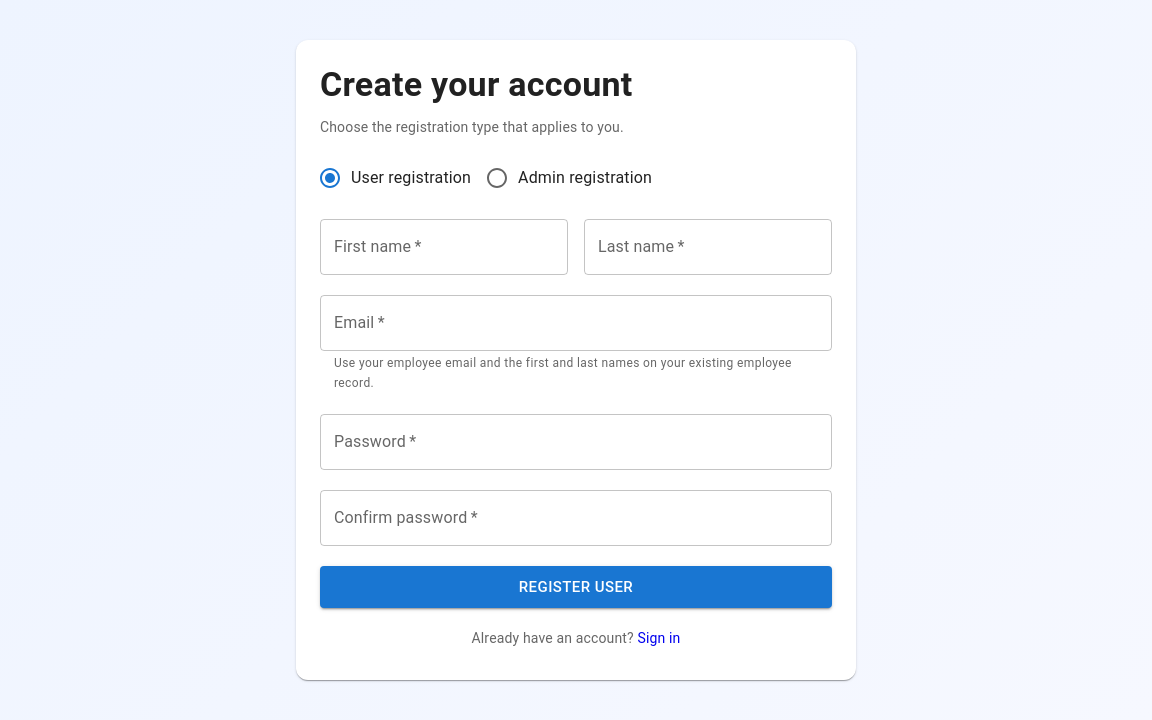
it: RegistrationPage › does not submit User registration when passwords do not match
Type "John" into the field labelled "First name".
click(444, 247); type("John")  # box x1=320 y1=219 x2=568 y2=275
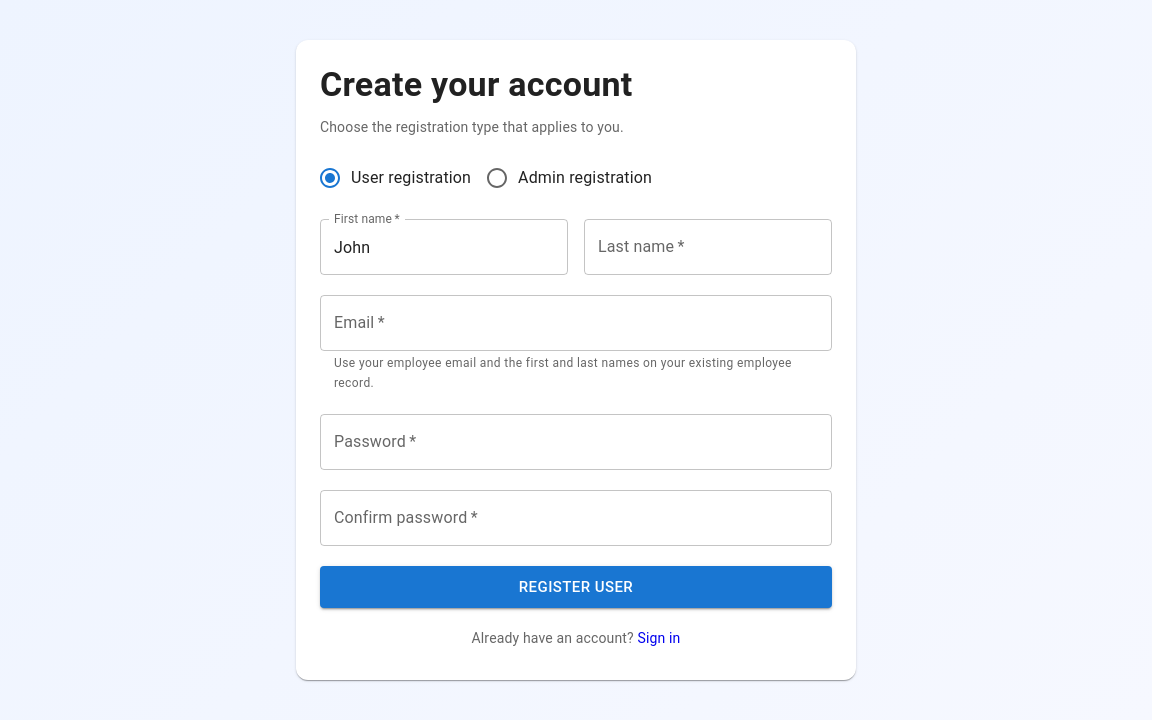
Type "Smith" into the field labelled "Last name".
click(708, 247); type("Smith")  # box x1=584 y1=219 x2=832 y2=275
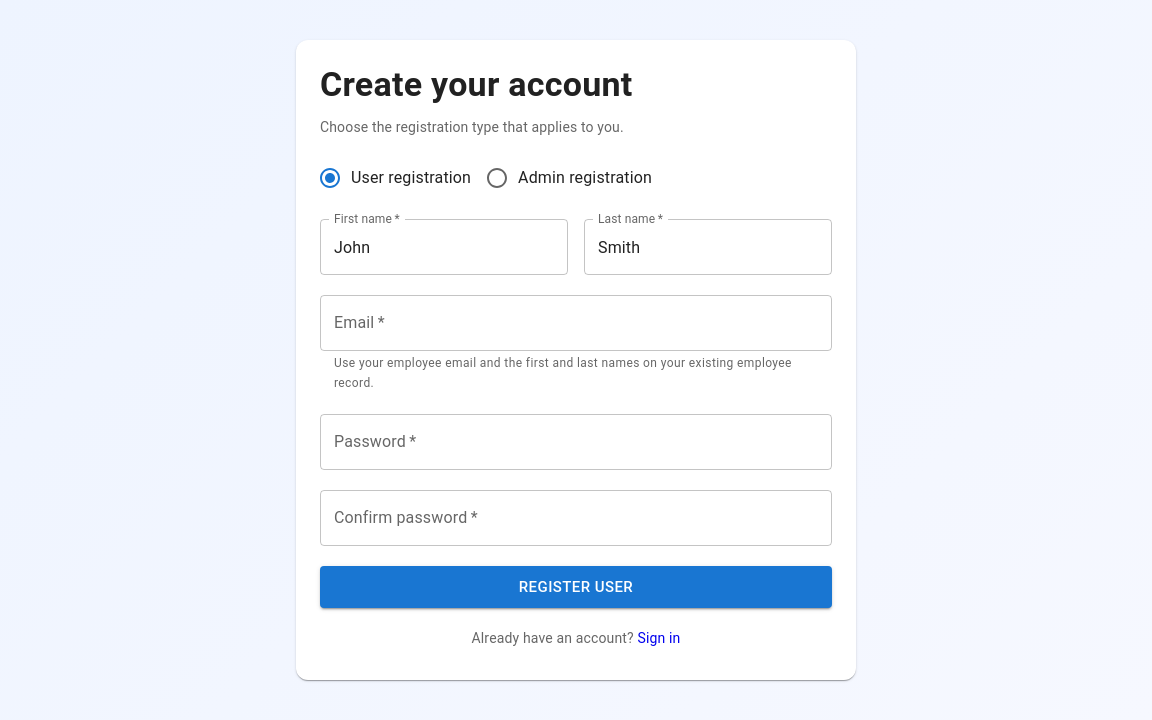
Type "john.smith@gmail.com" into the field labelled "Email".
click(576, 323); type("john.smith@gmail.com")  # box x1=320 y1=295 x2=832 y2=351
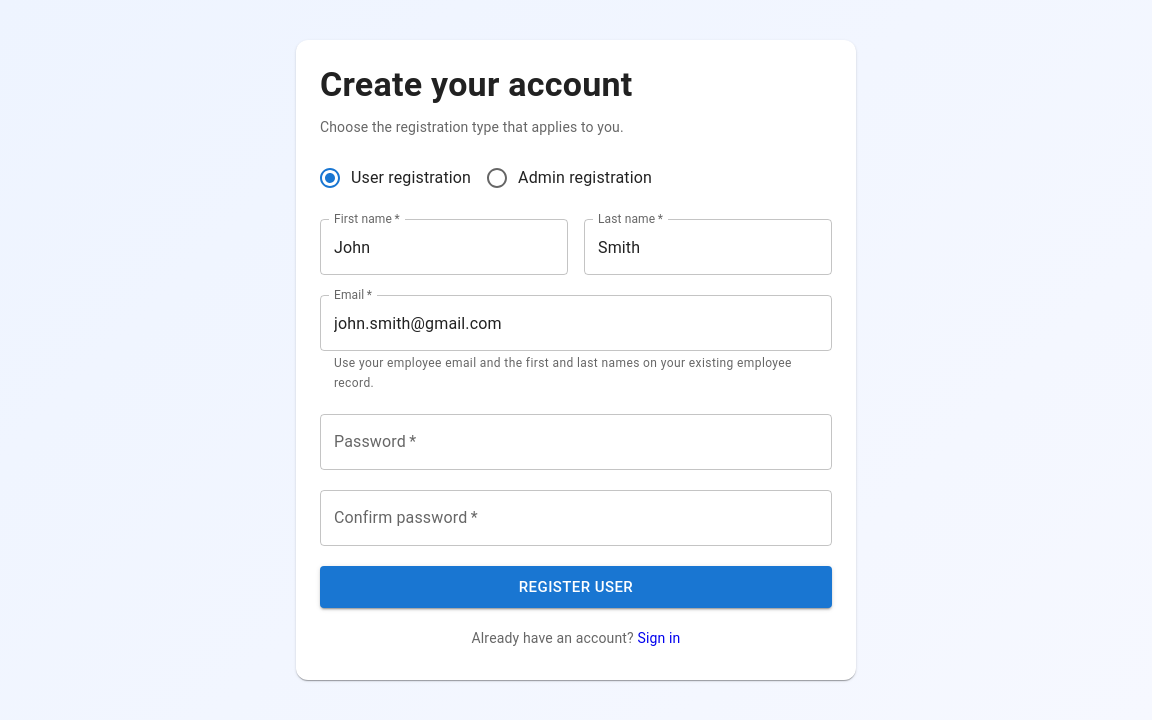
Type "EmployeePass456" into the password field labelled "Password *".
click(576, 442); type("EmployeePass456")  # box x1=320 y1=414 x2=832 y2=470
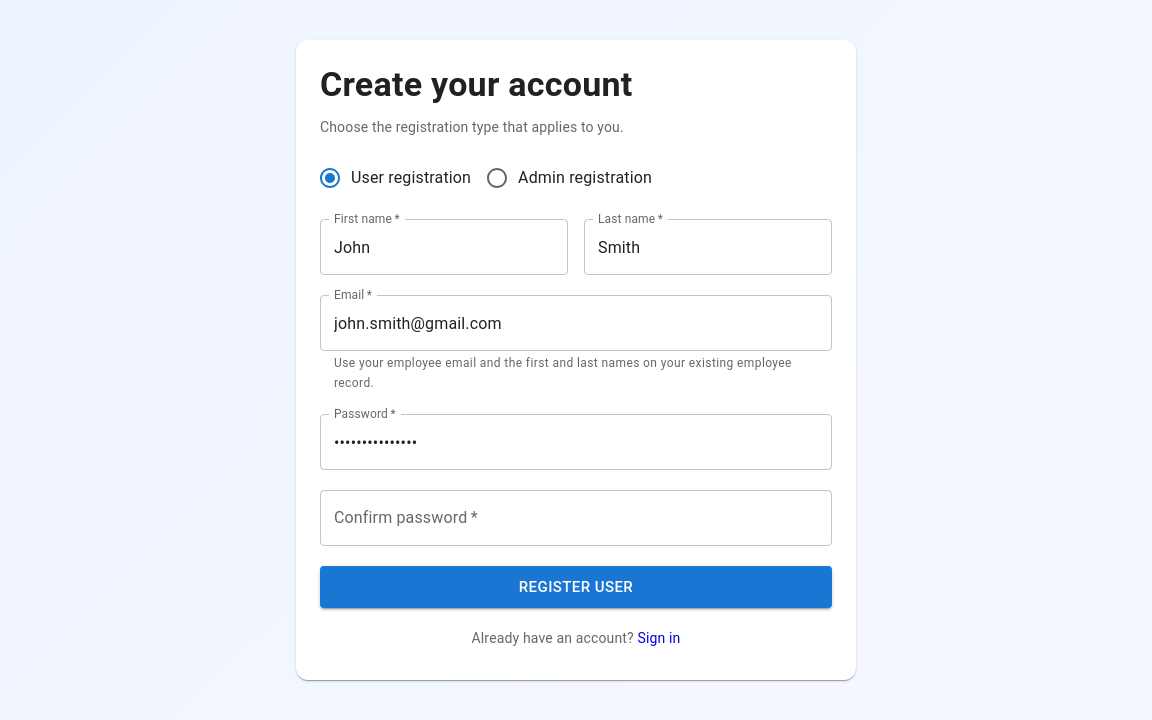
Type "DifferentPass456" into the password field labelled "Confirm password *".
click(576, 518); type("DifferentPass456")  # box x1=320 y1=490 x2=832 y2=546
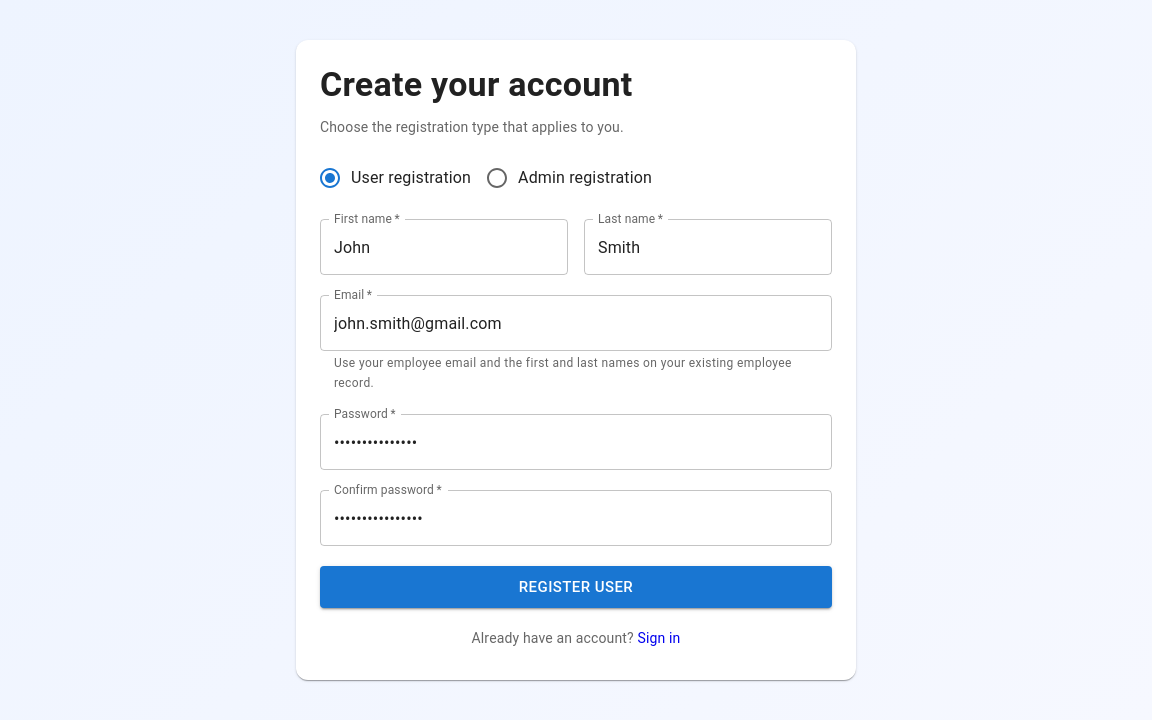
Click the button "Register User".
click(576, 587)  # box x1=320 y1=566 x2=832 y2=608
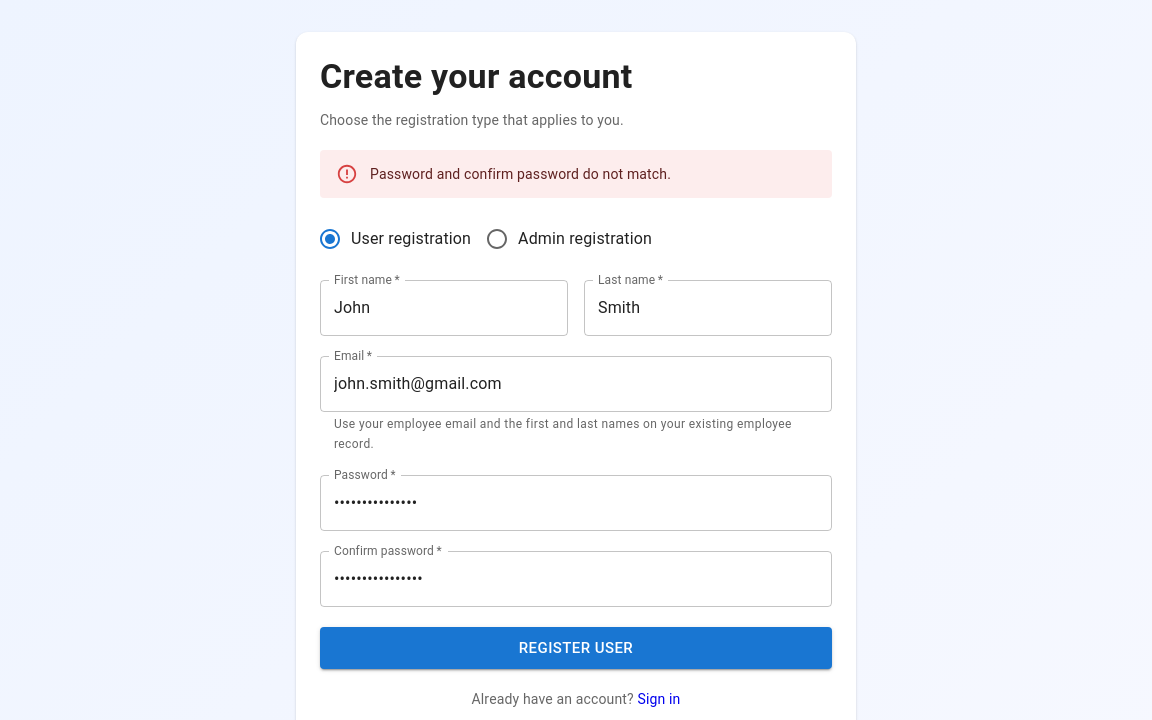
Result: the text "Password and confirm password do not match." is shown at x1=370 y1=166 x2=671 y2=182
